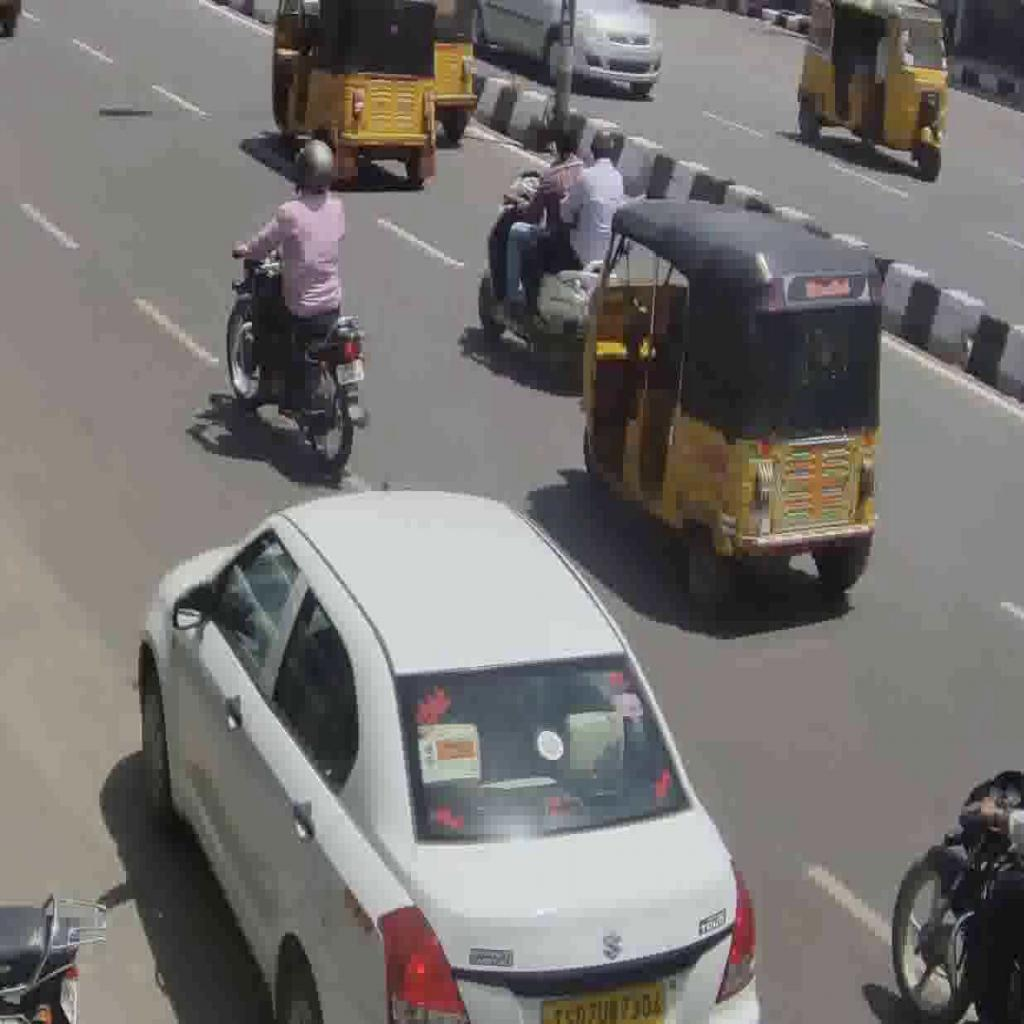helmet: (224, 237, 372, 471), (476, 164, 624, 373)
